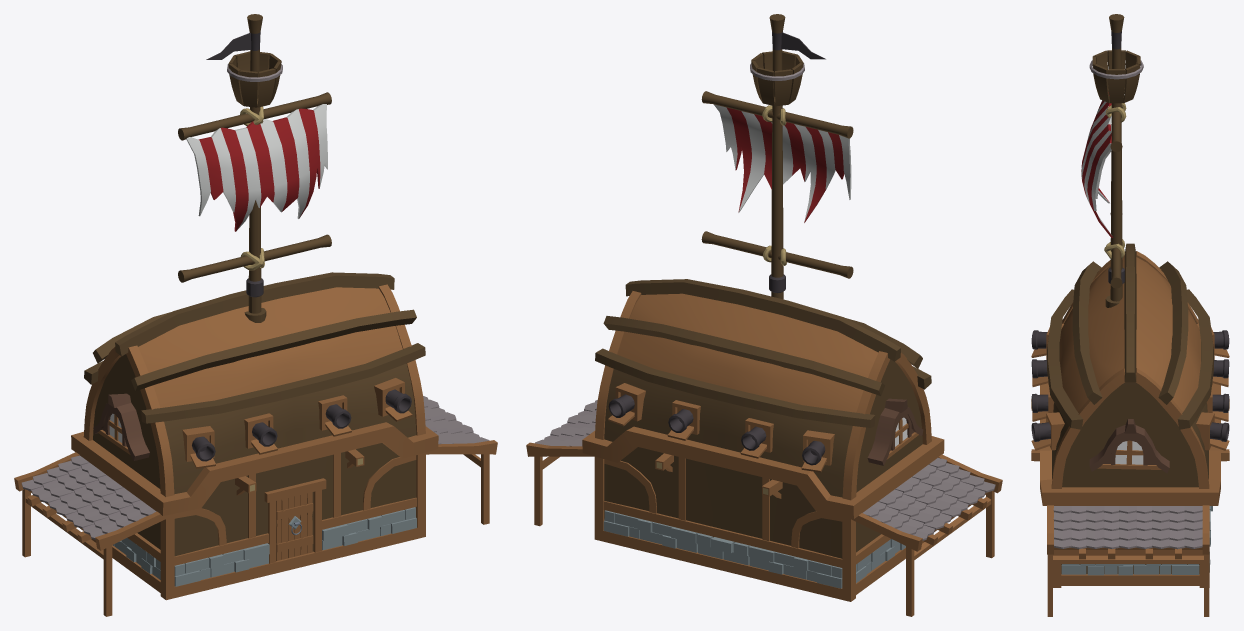
The model's file is house-2.glb.
3 renders of one model, left to right at view 1: azimuth 30°, elevation 25°; view 2: azimuth 150°, elevation 25°; view 3: azimuth 270°, elevation 25°, orthographic. The views are drawn at different scales.
Visible parts, largest first — view 1: Environment_House3; view 2: Environment_House3; view 3: Environment_House3.
Part boxes in pixels (x1,y1,x2,y2): Environment_House3: [14, 14, 497, 616]; Environment_House3: [526, 14, 1002, 616]; Environment_House3: [1031, 14, 1229, 616].
Size of the model in its own units: 8.46 by 10.64 by 3.78.
Materials: 2 (1 with a texture image).
